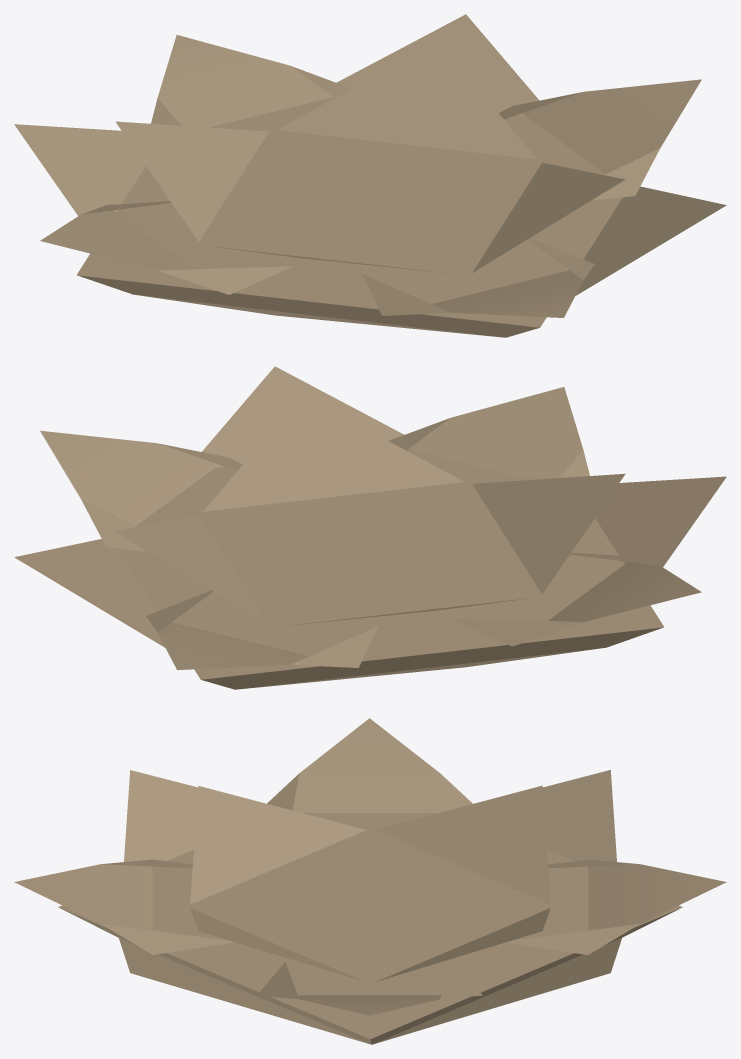
File: Flower_Lotus.fbx
3 views of the same model, one above another, from view 1: azimuth 30°, elevation 25°; view 2: azimuth 150°, elevation 25°; view 3: azimuth 270°, elevation 25° (orthographic). The views are drawn at different scales.
Parts seen in each view (by area): view 1: flower; view 2: flower; view 3: flower.
Part boxes in pixels (x1=…): flower: x1=14, y1=14, x2=726, y2=337; flower: x1=14, y1=366, x2=726, y2=689; flower: x1=14, y1=718, x2=726, y2=1044.
Size of the model in its own units: 1.5 by 0.189 by 1.52.
